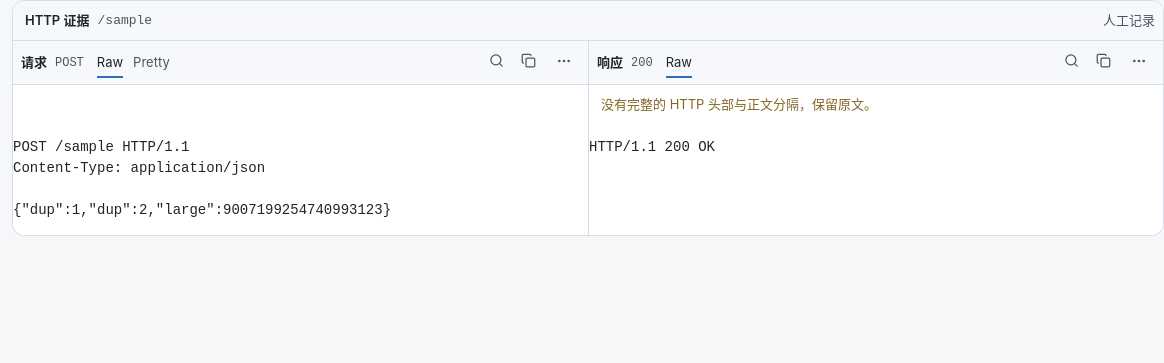
Scenario: 复测收尾交互边界 › 复制API拒绝按侧反馈且不假成功，手工恢复选中Raw原文
Click the button "Pretty" at (151, 62), box [128,46,175,78]
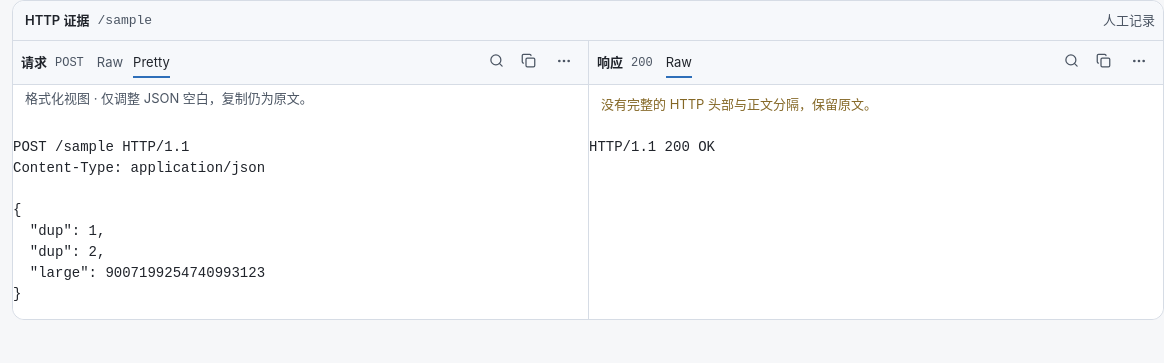
Click the button named "请求复制原文" at (528, 62), box [512,46,544,78]
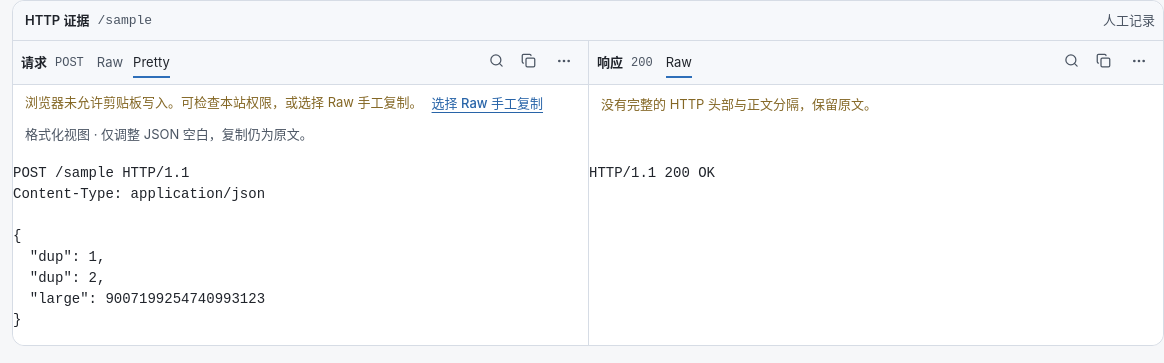
Result: the message "浏览器未允许剪贴板写入。可检查本站权限，或选择 Raw 手工复制。" is shown at [25,93,423,113]
Result: the button "选择 Raw 手工复制" is shown
Click the button "选择 Raw 手工复制" at (487, 103), box [431,89,544,117]
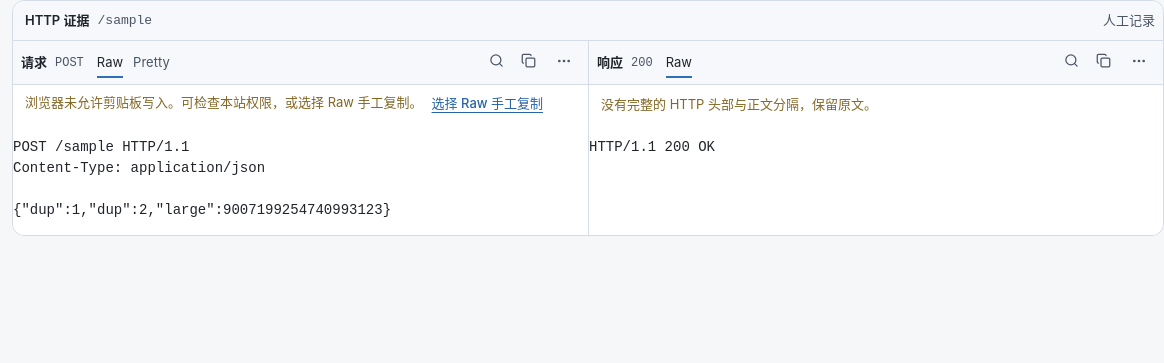
Result: the text with test id "evidence-content" shows "\"dup\":1,\"dup\":2,\"large\":9007199254740993123" at [13,139,391,218]
